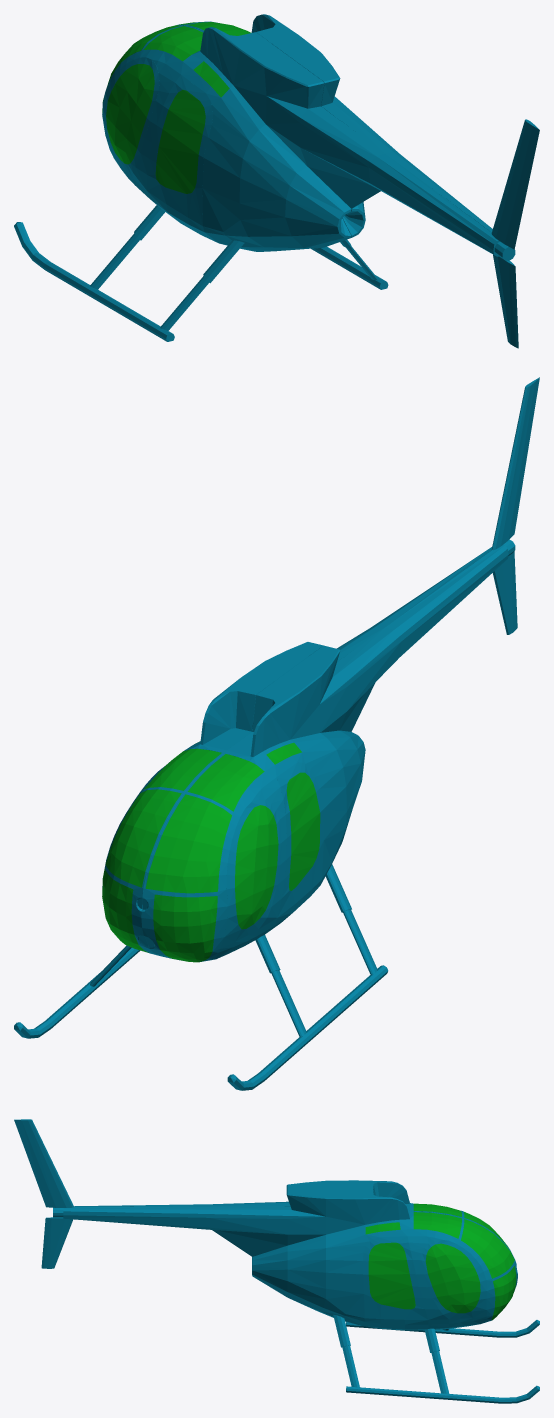
File: body_helicopter.obj
3 views of the same model, one above another, from view 1: azimuth 30°, elevation 25°; view 2: azimuth 150°, elevation 25°; view 3: azimuth 270°, elevation 25° (orthographic). The views are drawn at different scales.
Parts seen in each view (by area): view 1: objbody_None, objglass_None; view 2: objbody_None, objglass_None; view 3: objbody_None, objglass_None.
Boxes of the visible parts, <box> form: objbody_None: <box>14,14,539,348</box>; objglass_None: <box>102,22,250,193</box>; objbody_None: <box>14,377,539,1090</box>; objglass_None: <box>102,741,320,962</box>; objbody_None: <box>14,1119,539,1403</box>; objglass_None: <box>365,1203,516,1320</box>.
Size of the model in its own units: 1.72 by 2.93 by 5.59.
